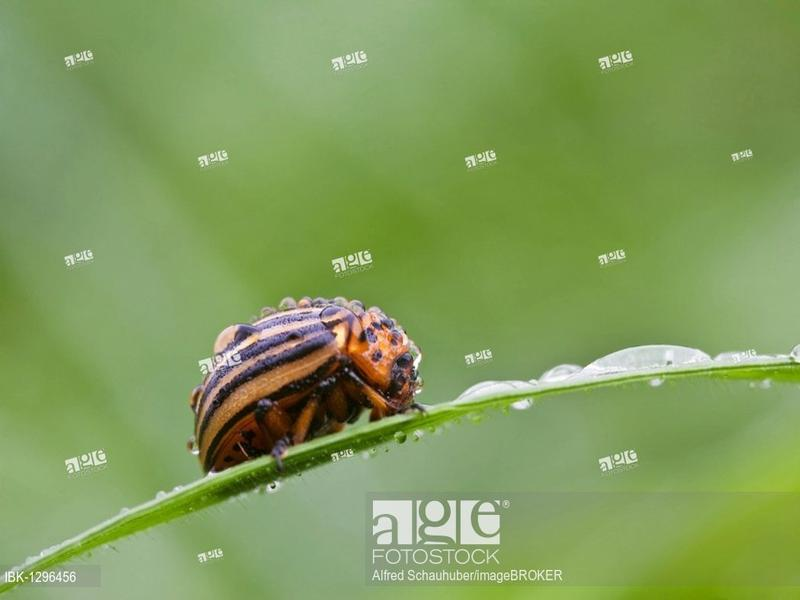hrosc: (191, 293, 422, 473)
